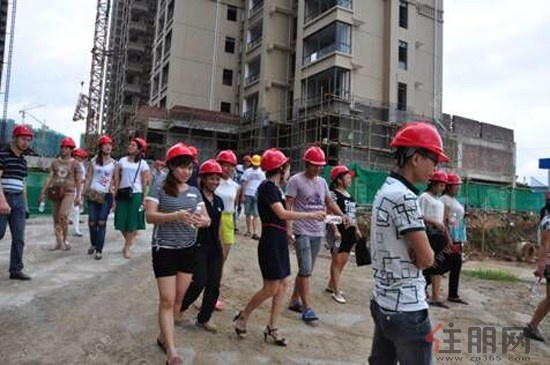red: (388, 121, 442, 184), (165, 141, 195, 182), (260, 147, 291, 182), (197, 159, 222, 190), (301, 145, 325, 175), (215, 148, 236, 178), (328, 165, 353, 189), (11, 124, 31, 151), (126, 137, 147, 157), (428, 172, 447, 194), (445, 171, 460, 196), (96, 133, 112, 156), (58, 136, 74, 158), (72, 147, 86, 163), (241, 154, 251, 166), (153, 160, 163, 171)
yellow: (250, 153, 261, 169)
